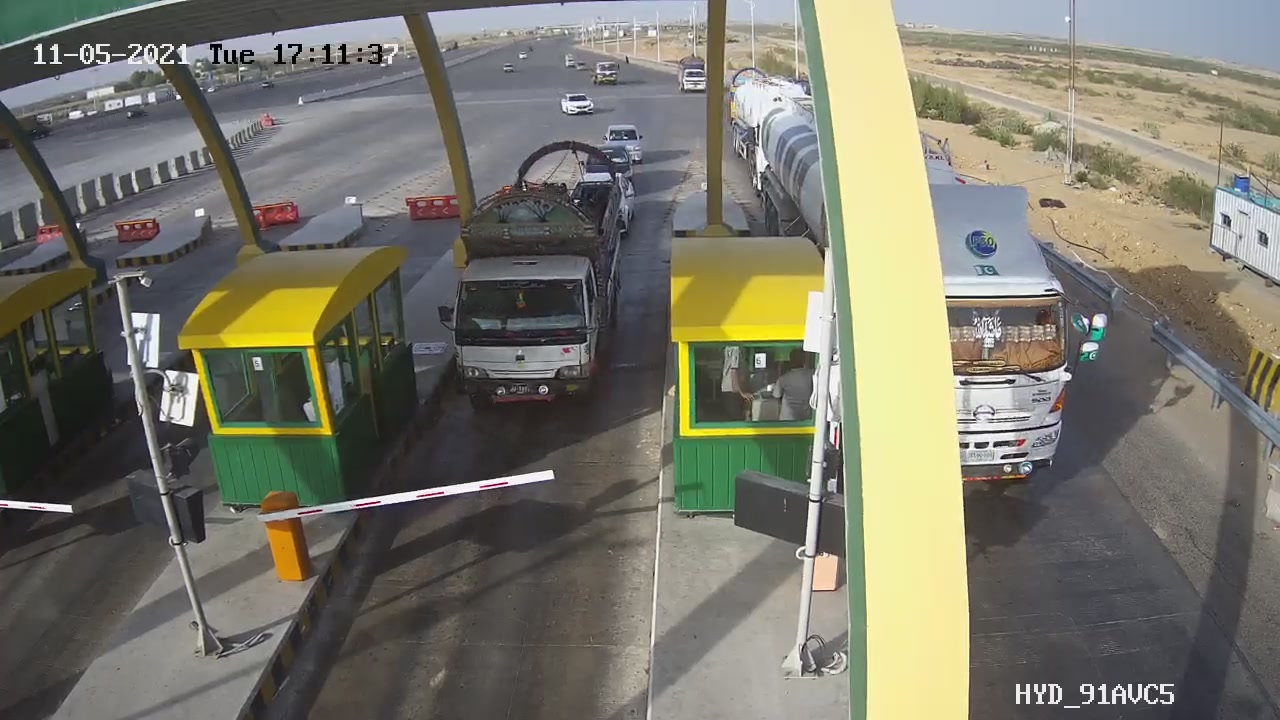F5: (422, 131, 653, 431)
